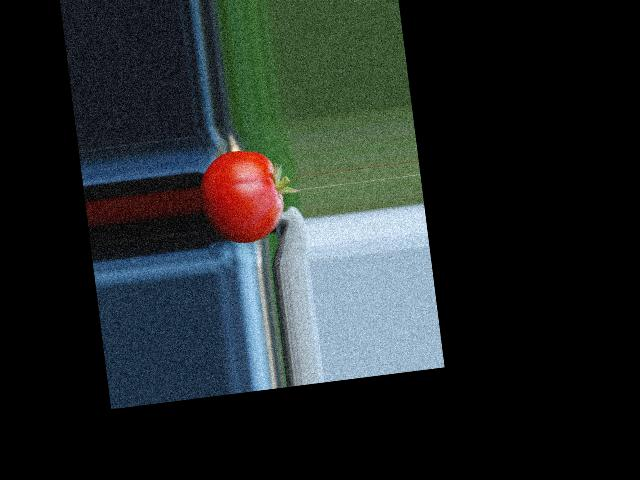tomato: (196, 145, 287, 247)
